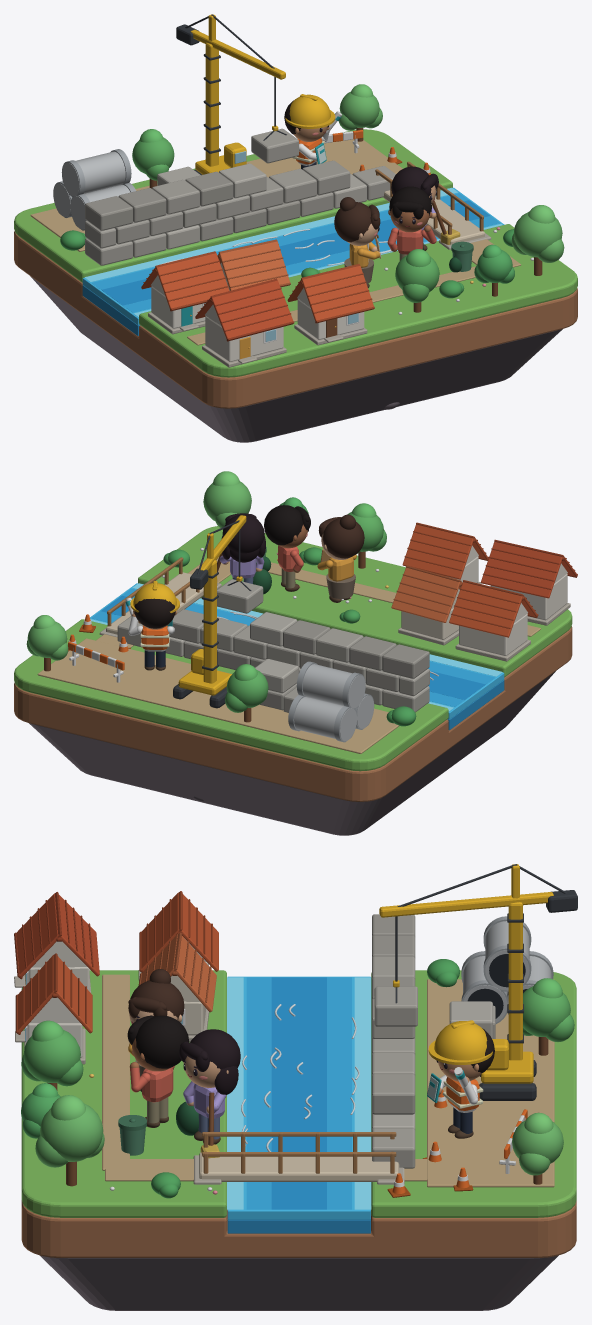
The model's file is diorama-banjir.glb.
3 renders of one model, top to bottom at view 1: azimuth 30°, elevation 25°; view 2: azimuth 150°, elevation 25°; view 3: azimuth 270°, elevation 25°, orthographic. The views are drawn at different scales.
Parts seen in each view (by area): view 1: Static, Water, Char_Engineer, Char_Planner, Char_Resident, Crane_Jib, Crane_Hook, Char_Sweeper; view 2: Static, Water, Char_Engineer, Char_Planner, Char_Resident, Char_Sweeper, Crane_Hook, Crane_Jib; view 3: Static, Water, Char_Engineer, Char_Sweeper, Char_Resident, Crane_Jib, Char_Planner, Crane_Hook, Ripples.
Part boxes in pixels (bbox=[...]): Static: bbox=[14, 42, 577, 442]; Water: bbox=[82, 187, 504, 335]; Char_Engineer: bbox=[284, 94, 341, 169]; Char_Planner: bbox=[334, 197, 380, 287]; Char_Resident: bbox=[387, 186, 436, 260]; Crane_Jib: bbox=[176, 14, 285, 79]; Crane_Hook: bbox=[251, 77, 298, 163]; Char_Sweeper: bbox=[391, 166, 438, 250]; Static: bbox=[14, 471, 577, 835]; Water: bbox=[90, 583, 504, 730]; Char_Engineer: bbox=[125, 581, 179, 670]; Char_Planner: bbox=[317, 514, 364, 602]; Char_Resident: bbox=[264, 505, 310, 591]; Char_Sweeper: bbox=[219, 513, 271, 594]; Crane_Hook: bbox=[217, 529, 263, 613]; Crane_Jib: bbox=[190, 515, 246, 589]; Static: bbox=[14, 891, 576, 1310]; Water: bbox=[227, 976, 371, 1233]; Char_Engineer: bbox=[427, 1020, 494, 1138]; Char_Sweeper: bbox=[176, 1029, 240, 1144]; Char_Resident: bbox=[127, 1015, 188, 1127]; Crane_Jib: bbox=[379, 864, 577, 917]; Char_Planner: bbox=[128, 969, 184, 1091]; Crane_Hook: bbox=[374, 916, 417, 1026]; Ripples: bbox=[241, 1004, 359, 1151].
Bounding box in the file's own units: 10.03 × 7.26 × 10.16.
